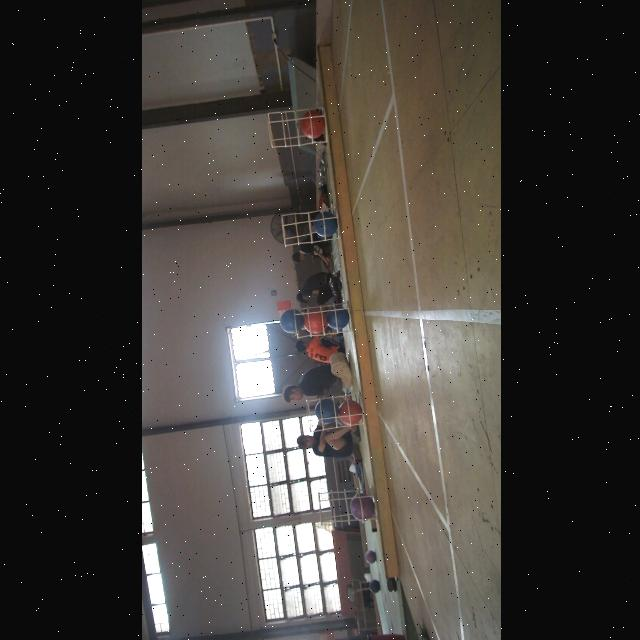B: (324, 306, 351, 330), (277, 310, 303, 334), (314, 398, 336, 426), (312, 212, 336, 236)
R: (299, 110, 323, 138), (337, 401, 361, 425), (302, 310, 326, 334)
